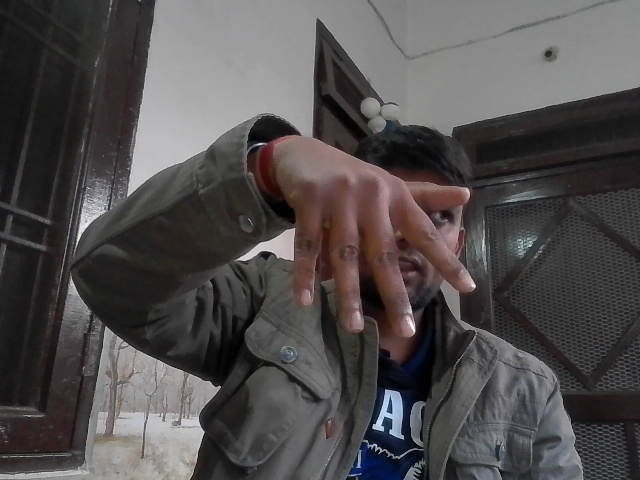HowAreYou: (270, 131, 488, 328)
